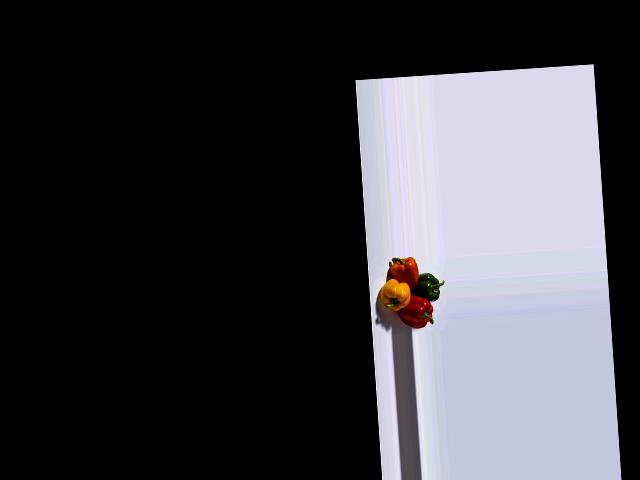bell_pepper: (397, 294, 437, 330)
